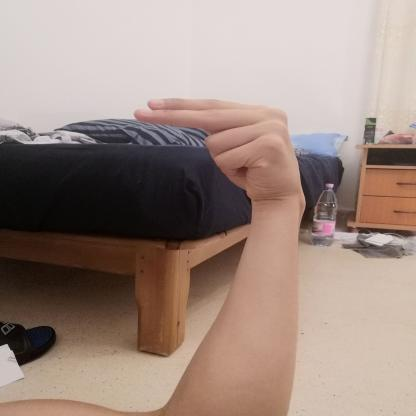AYN: (122, 86, 316, 212)
